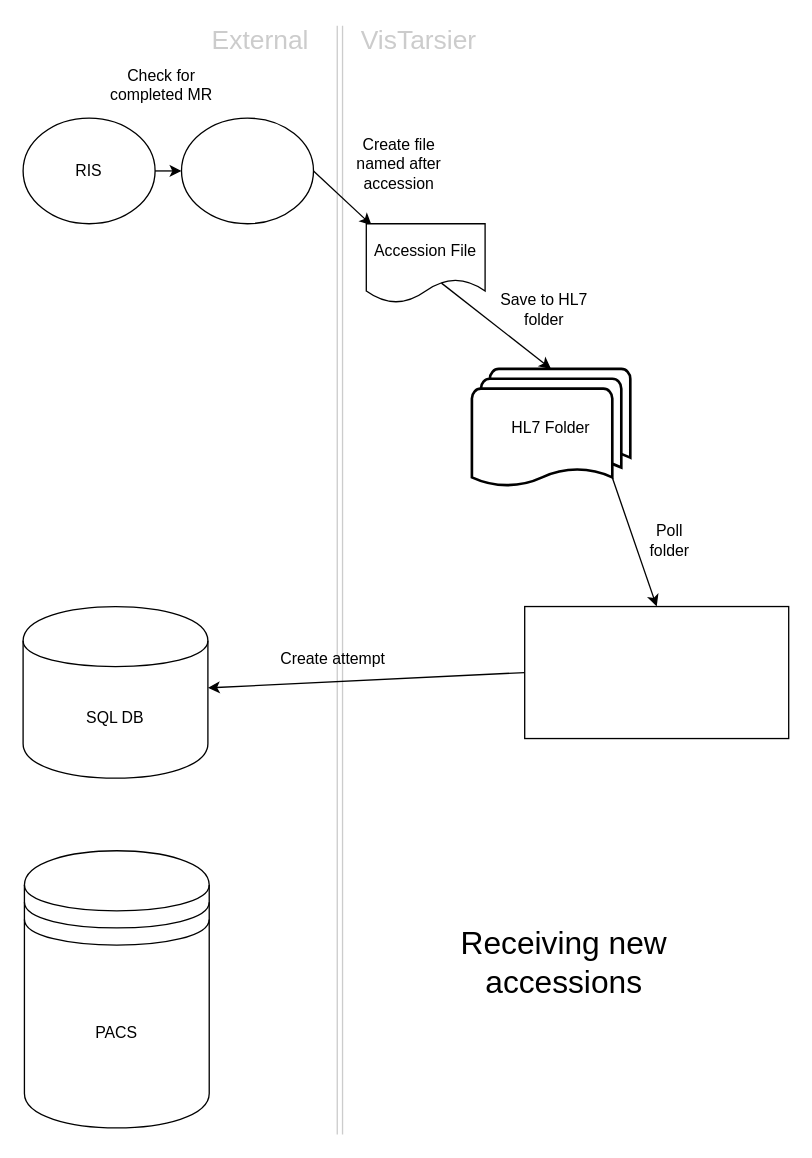
The diagram is 812 pixels wide and 1158 high, and some of its shapes have lost their labels. The box of each missing label's shape, as (x1, y1, x2, y2) in pixels:
HL7 Reader: (180, 117, 314, 224)
VisTarsier Service: (523, 605, 789, 739)
